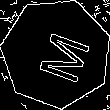M_W: (25, 23, 88, 84)
